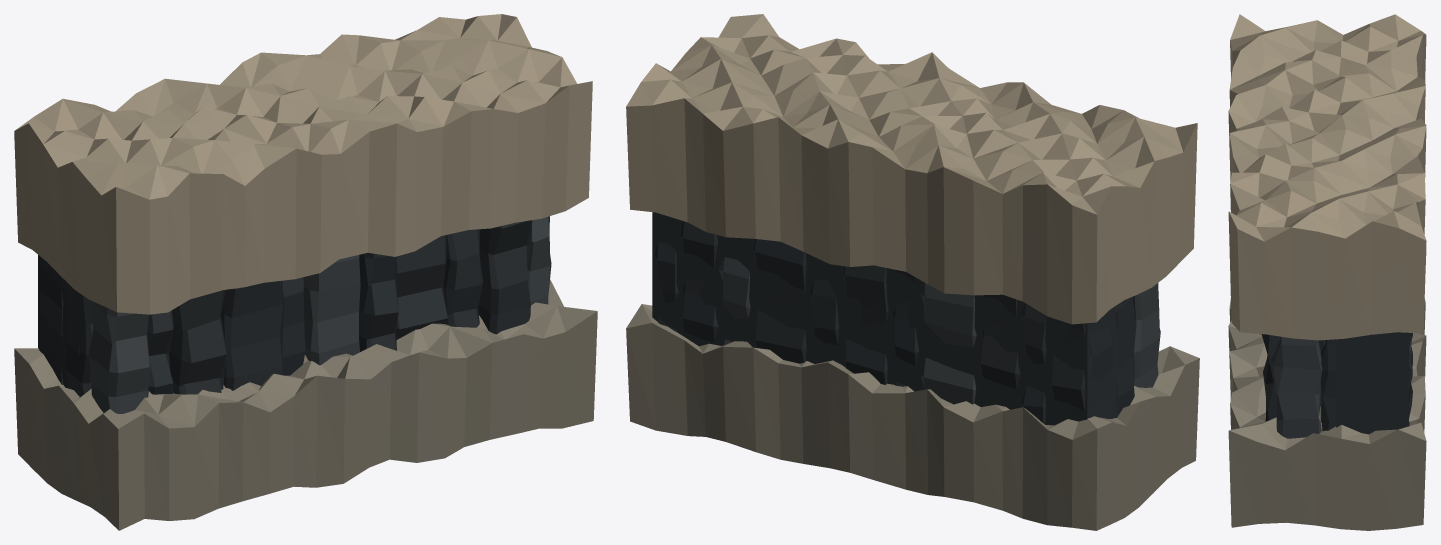
File: coal-seam-outcrop.glb
3 renders of one model, left to right at view 1: azimuth 30°, elevation 25°; view 2: azimuth 150°, elevation 25°; view 3: azimuth 270°, elevation 25°, orthographic. The views are drawn at different scales.
Parts seen in each view (by area): view 1: uneven_resistant_upper_host_bed, uneven_resistant_lower_host_bed, unequal_chipped_face_cleat_front_short_staggered_butt_cleat, unequal_chipped_face_cleat_front_short_staggered_butt_cleats, recessed_coal_interior_continuous_core; view 2: uneven_resistant_upper_host_bed, uneven_resistant_lower_host_bed, recessed_coal_interior_continuous_core, unequal_chipped_face_cleat_front_short_staggered_butt_cleat, unequal_chipped_face_cleat_front_short_staggered_butt_cleats; view 3: uneven_resistant_upper_host_bed, uneven_resistant_lower_host_bed, recessed_coal_interior_continuous_core, unequal_chipped_face_cleat_front_short_staggered_butt_cleats, unequal_chipped_face_cleat_front_short_staggered_butt_cleat.
Part boxes in pixels (x1,y1,x2,y2): uneven_resistant_upper_host_bed: [14, 14, 592, 314]; uneven_resistant_lower_host_bed: [14, 279, 597, 530]; unequal_chipped_face_cleat_front_short_staggered_butt_cleat: [39, 220, 532, 396]; unequal_chipped_face_cleat_front_short_staggered_butt_cleats: [88, 216, 551, 413]; recessed_coal_interior_continuous_core: [38, 255, 79, 388]; uneven_resistant_upper_host_bed: [626, 14, 1197, 324]; uneven_resistant_lower_host_bed: [626, 304, 1199, 530]; recessed_coal_interior_continuous_core: [652, 212, 1127, 425]; unequal_chipped_face_cleat_front_short_staggered_butt_cleat: [655, 221, 1136, 424]; unequal_chipped_face_cleat_front_short_staggered_butt_cleats: [719, 257, 1160, 404]; uneven_resistant_upper_host_bed: [1228, 14, 1426, 340]; uneven_resistant_lower_host_bed: [1228, 252, 1426, 530]; recessed_coal_interior_continuous_core: [1336, 332, 1408, 434]; unequal_chipped_face_cleat_front_short_staggered_butt_cleats: [1272, 336, 1412, 438]; unequal_chipped_face_cleat_front_short_staggered_butt_cleat: [1261, 333, 1412, 431].
Bounding box in the file's own units: 3.64 × 2.57 × 1.47.
